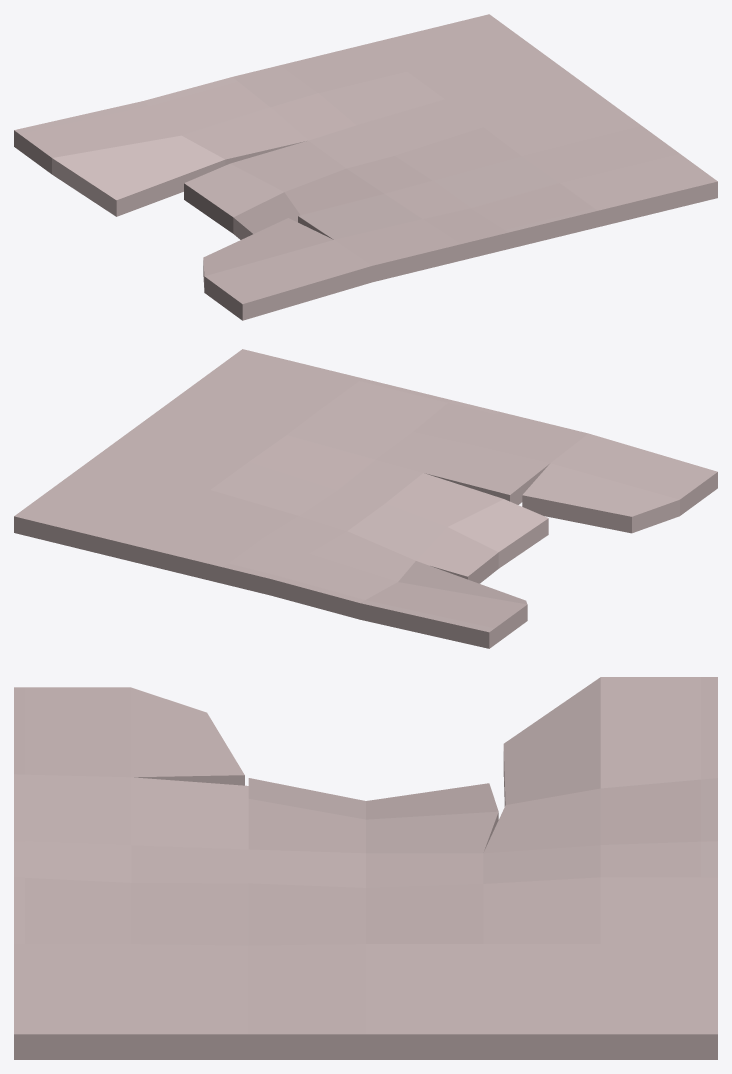
File: FloorBrokenSidePrison.obj
3 renders of one model, top to bottom at view 1: azimuth 30°, elevation 25°; view 2: azimuth 150°, elevation 25°; view 3: azimuth 270°, elevation 25°, orthographic. The views are drawn at different scales.
Parts seen in each view (by area): view 1: FloorBrokenSidePrison; view 2: FloorBrokenSidePrison; view 3: FloorBrokenSidePrison.
Boxes of the visible parts, left/top/right/bottom form: FloorBrokenSidePrison: left=14, top=14, right=717, bottom=320; FloorBrokenSidePrison: left=14, top=349, right=717, bottom=648; FloorBrokenSidePrison: left=14, top=677, right=717, bottom=1059.
Size of the model in its own units: 6 by 0.5525 by 5.
